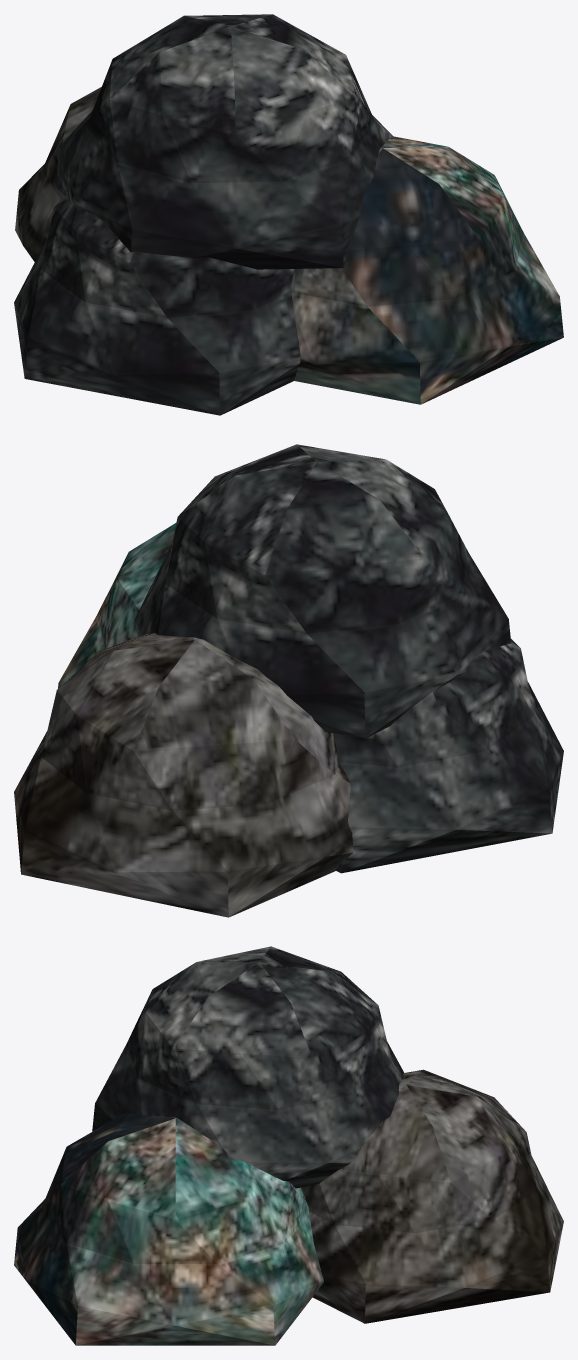
File: ROCK.glb
3 views of the same model, one above another, from view 1: azimuth 30°, elevation 25°; view 2: azimuth 150°, elevation 25°; view 3: azimuth 270°, elevation 25° (orthographic). The views are drawn at different scales.
Visible parts, largest first — view 1: Icosphere.003, Icosphere.001, Icosphere.002, Icosphere; view 2: Icosphere, Icosphere.003, Icosphere.002, Icosphere.001; view 3: Icosphere.001, Icosphere.003, Icosphere.
Part boxes in pixels (x1=…): Icosphere.003: x1=55, y1=14, x2=392, y2=269; Icosphere.001: x1=291, y1=136, x2=563, y2=404; Icosphere.002: x1=14, y1=196, x2=300, y2=415; Icosphere: x1=15, y1=87, x2=101, y2=261; Icosphere: x1=14, y1=632, x2=353, y2=917; Icosphere.003: x1=134, y1=444, x2=511, y2=738; Icosphere.002: x1=333, y1=638, x2=563, y2=873; Icosphere.001: x1=58, y1=523, x2=176, y2=688; Icosphere.001: x1=14, y1=1113, x2=323, y2=1345; Icosphere.003: x1=92, y1=946, x2=403, y2=1188; Icosphere: x1=301, y1=1069, x2=563, y2=1323.
Bounding box in the file's own units: 3.72 × 2.38 × 4.08.
Materials: 4 (4 with a texture image).
